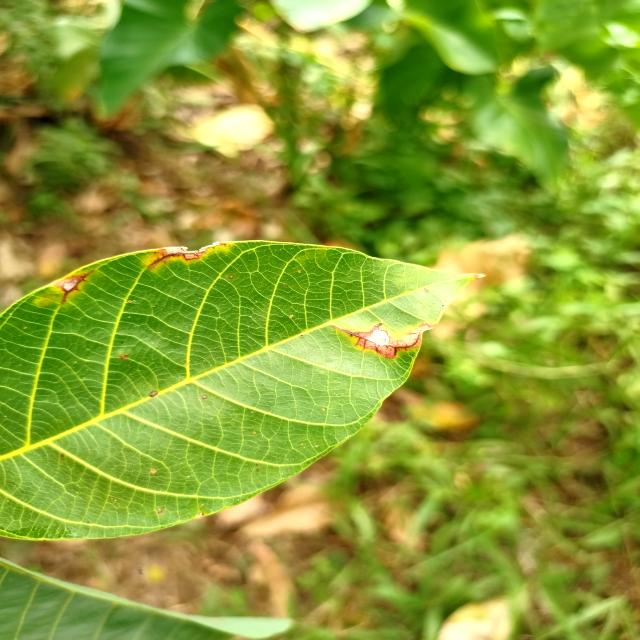Colletotrichum: (150, 391, 158, 397), (202, 395, 208, 399), (229, 275, 234, 279)
Corynespora: (327, 323, 419, 358), (60, 270, 95, 304)
Leaf-Blight: (158, 241, 220, 260), (367, 330, 389, 347), (64, 282, 77, 291)
